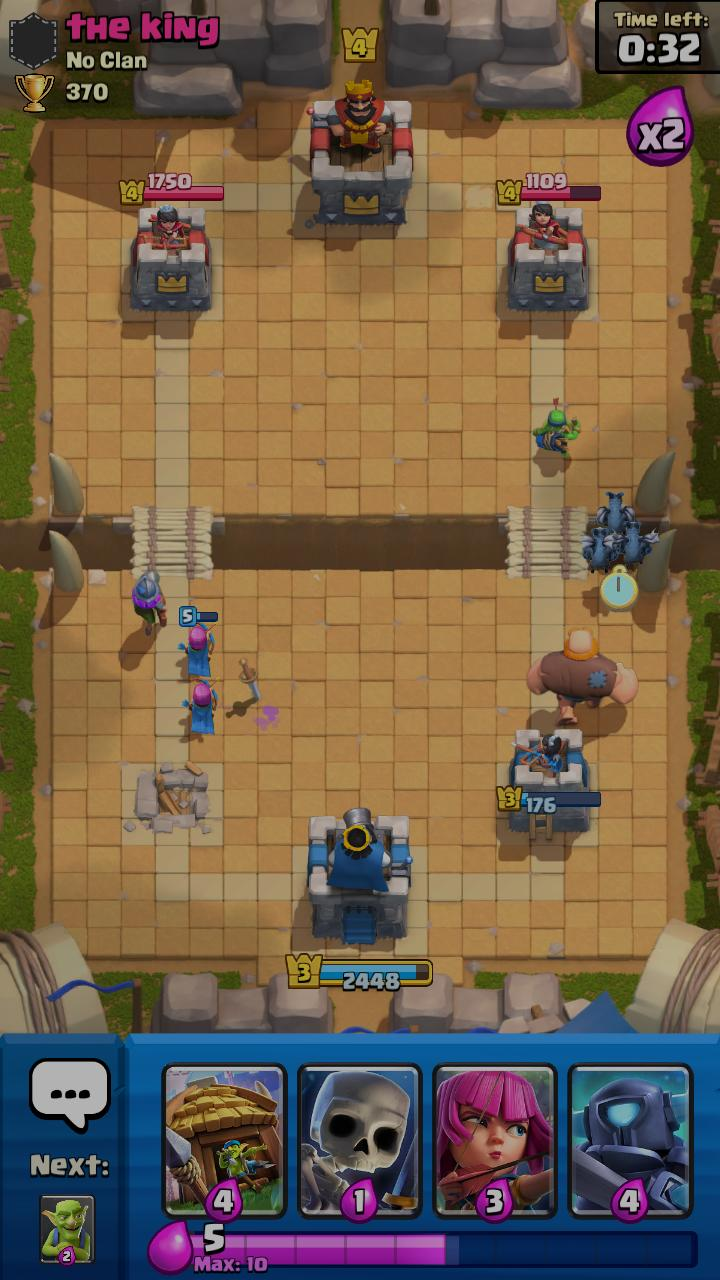ally: (527, 628, 639, 726), (177, 606, 218, 677), (132, 571, 167, 637), (534, 410, 581, 458), (182, 677, 220, 735), (613, 521, 660, 567), (581, 527, 619, 574), (596, 491, 636, 535)
